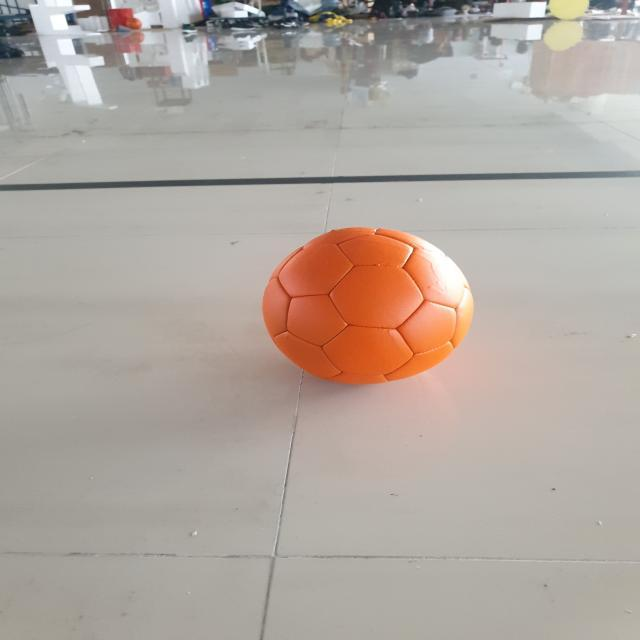bola: (250, 218, 484, 396)
